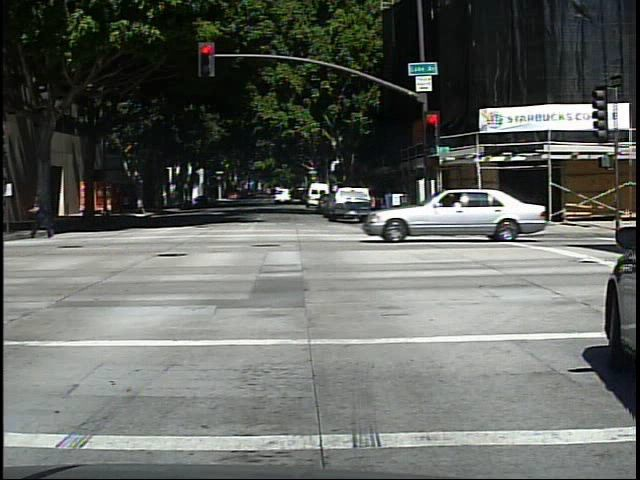person: (29, 189, 59, 241)
